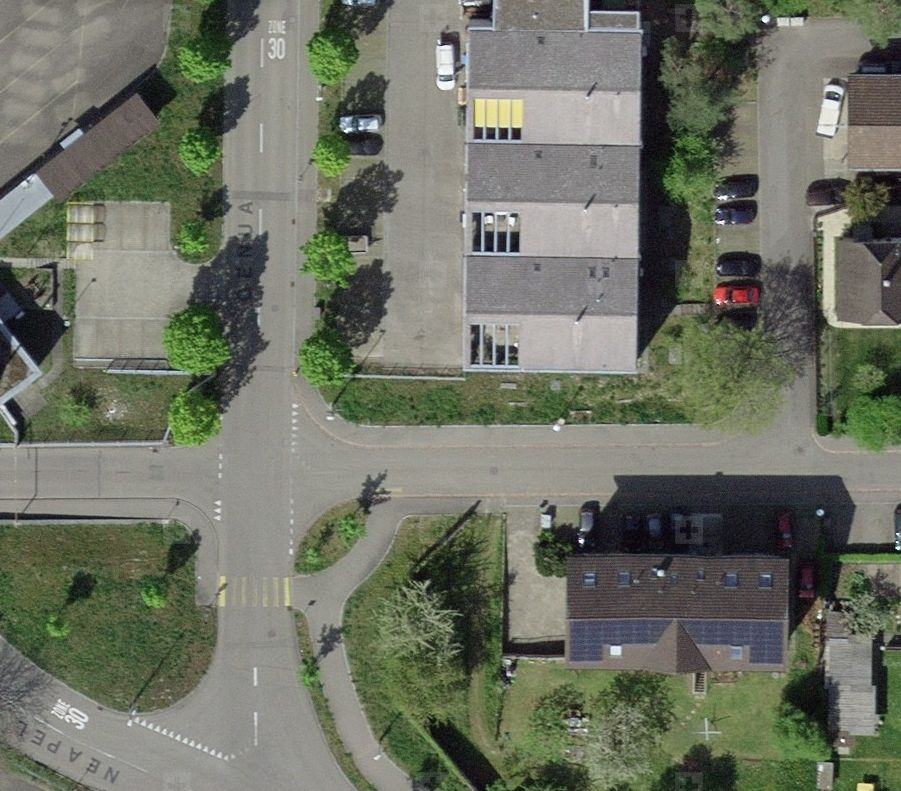solar: (566, 614, 788, 666)
